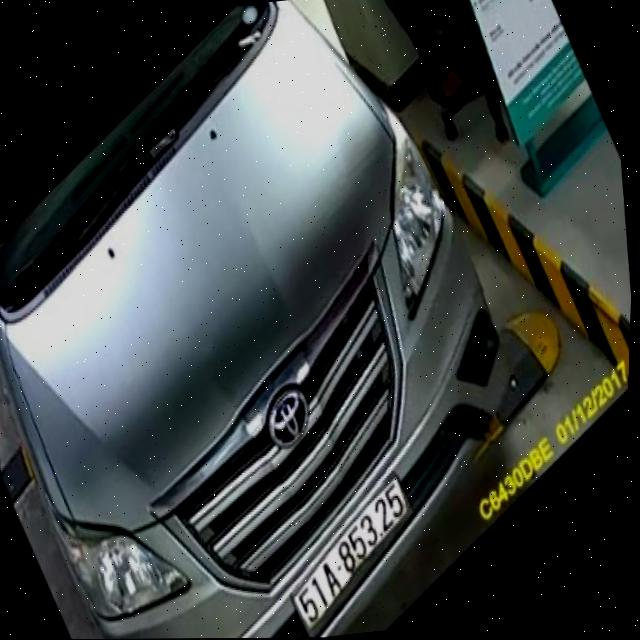car: (0, 0, 541, 640)
plate: (278, 469, 425, 630)
